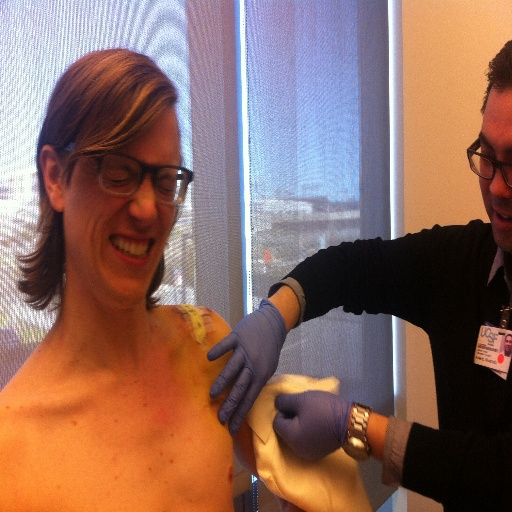hand: (209, 303, 288, 418), (273, 389, 354, 463)
